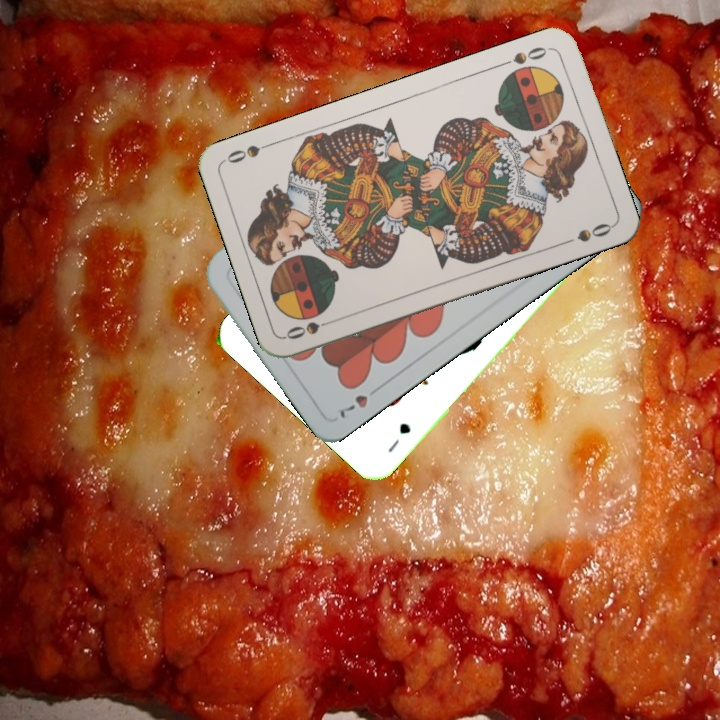GU: (383, 419, 414, 456)
H7: (335, 381, 384, 422)
SO: (282, 314, 340, 342), (495, 42, 553, 69)
